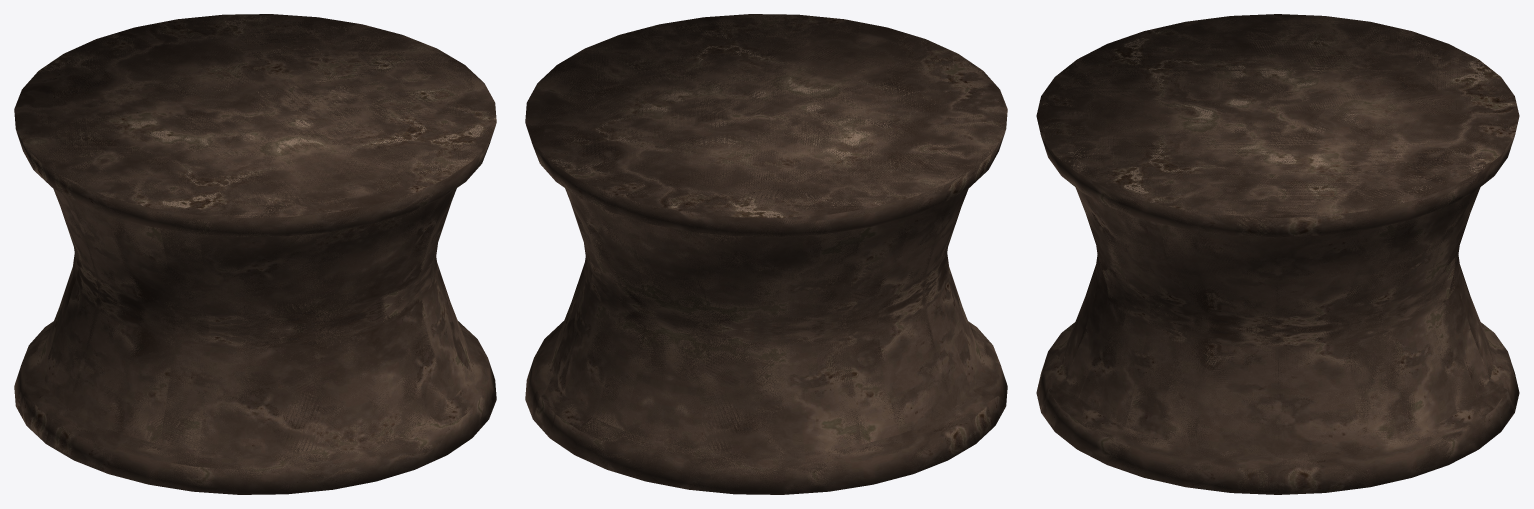
Rendered from piece.glb.
3 views of the same model, side by side, from view 1: azimuth 30°, elevation 25°; view 2: azimuth 150°, elevation 25°; view 3: azimuth 270°, elevation 25° (orthographic).
Visible parts, largest first — view 1: Cylinder; view 2: Cylinder; view 3: Cylinder.
Boxes of the visible parts, x1,y1,x2,y2 form: Cylinder: [14, 14, 496, 494]; Cylinder: [525, 14, 1007, 494]; Cylinder: [1036, 14, 1519, 494].
Size of the model in its own units: 1.75 by 1.11 by 1.75.
1 material, 1 textured.
